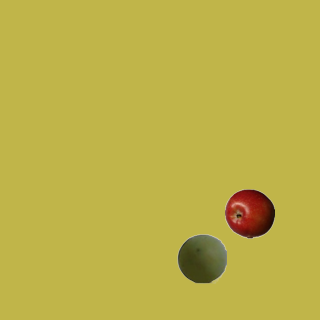Apple Braeburn: (224, 188, 274, 238)
Grape White 4: (176, 233, 226, 283)
